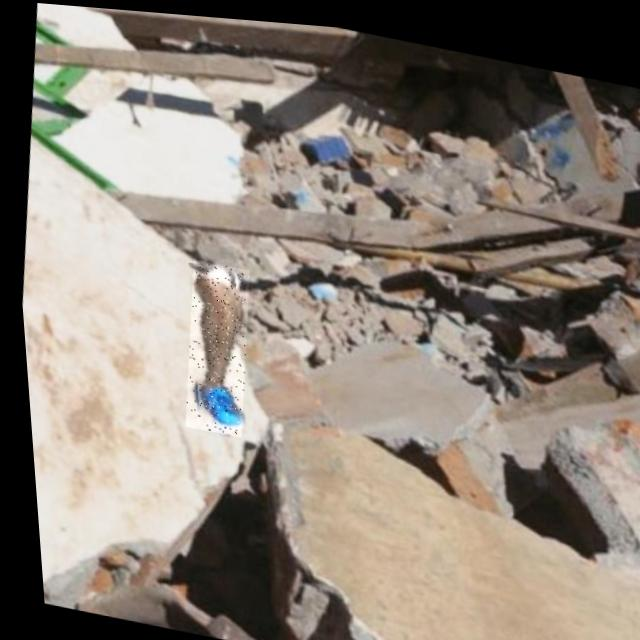Person in Rubble: (169, 254, 255, 435)
